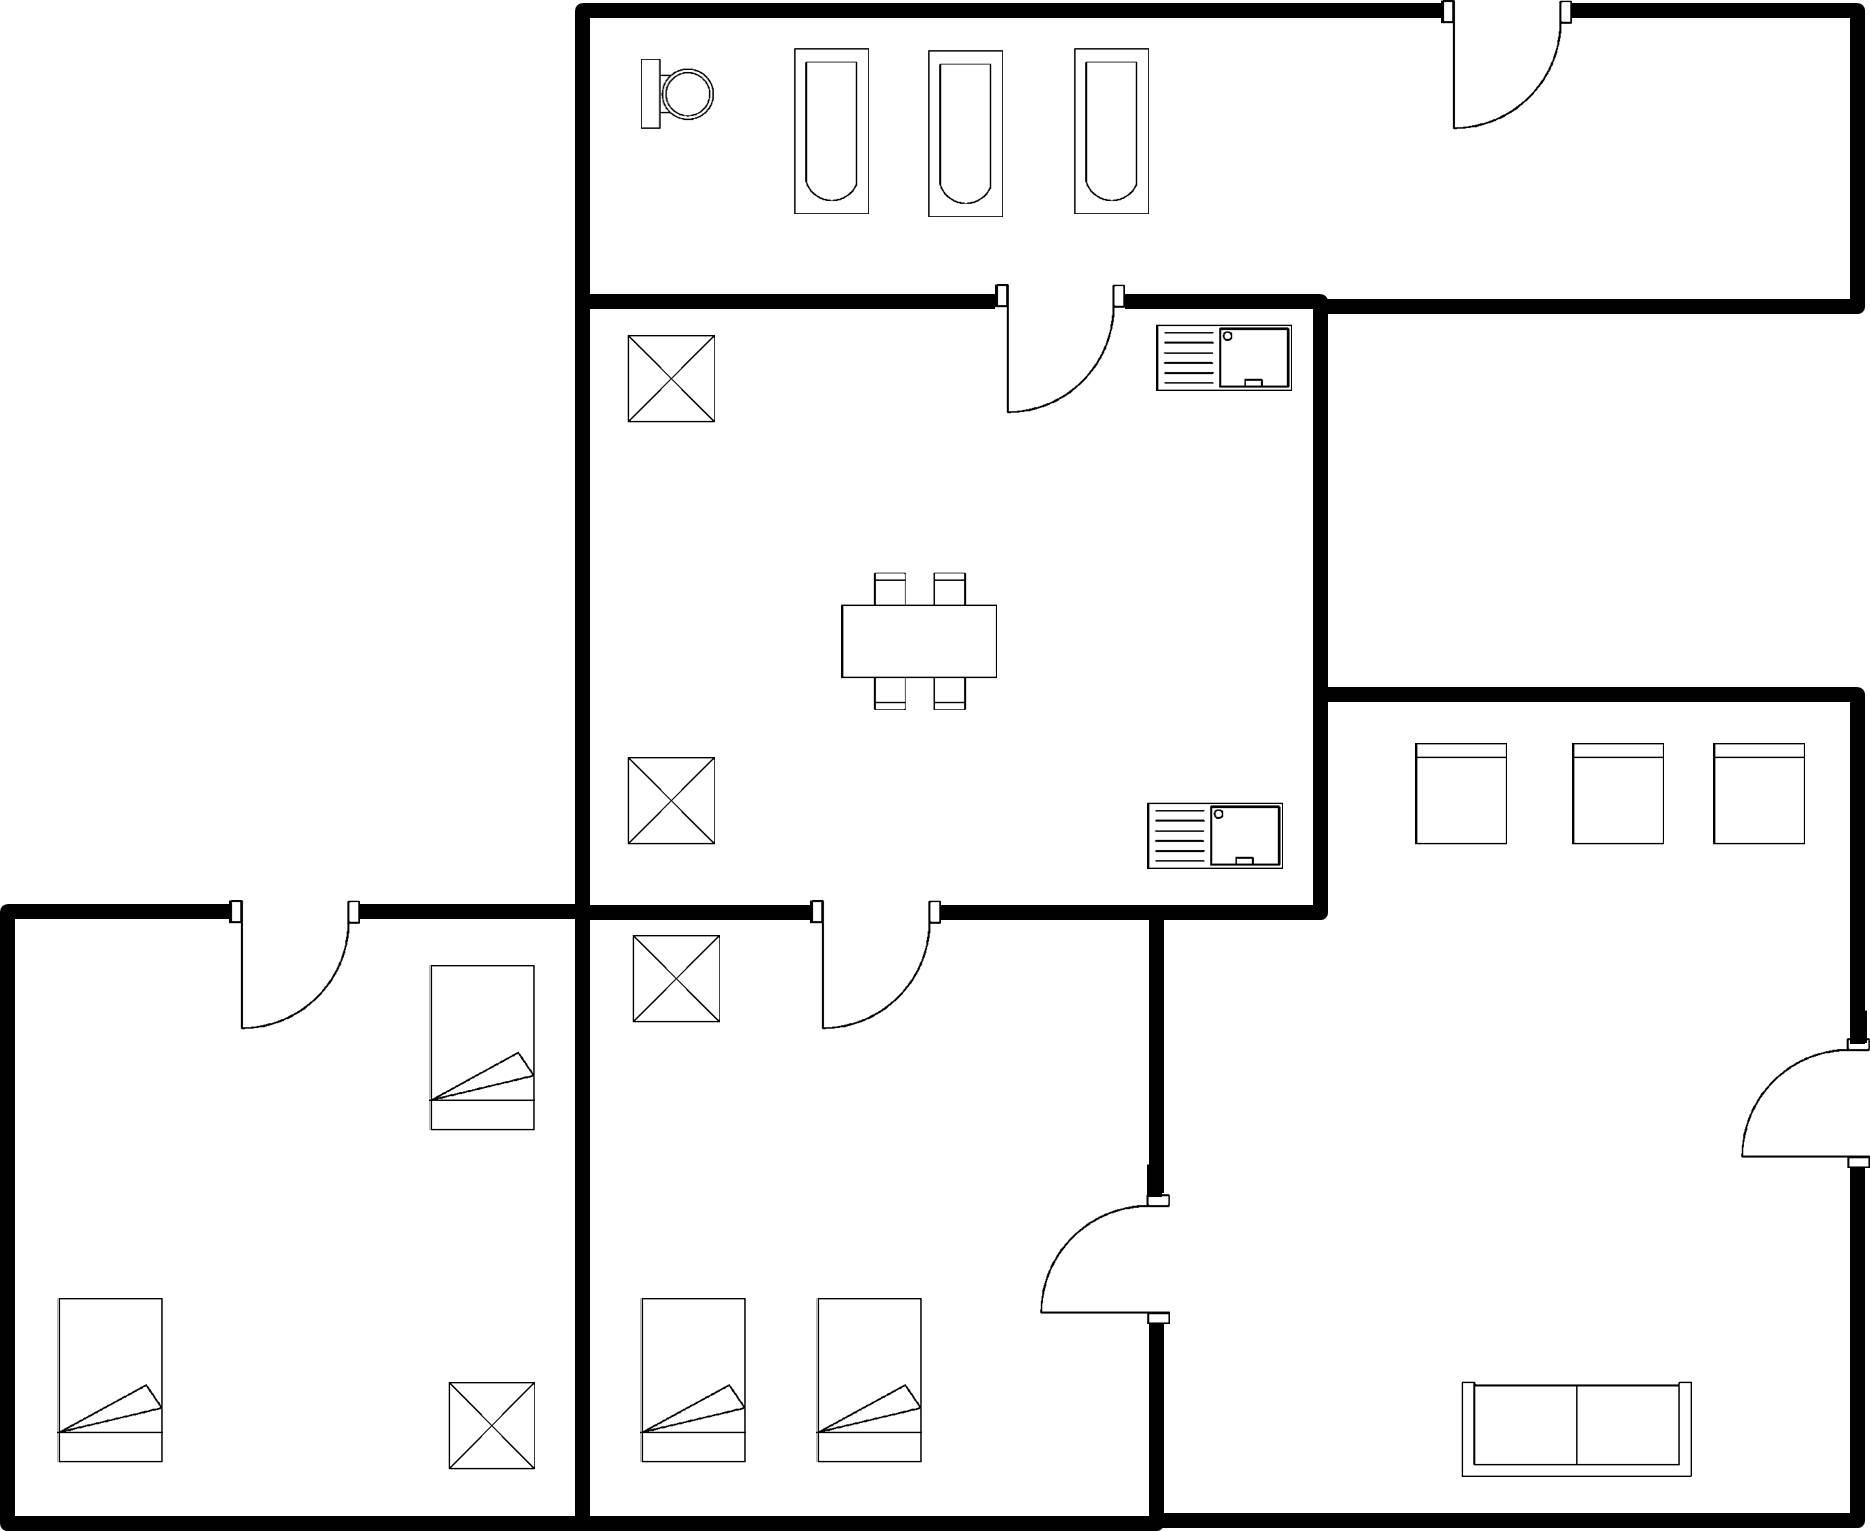bed: (415, 953, 545, 1143), (805, 1287, 933, 1474), (45, 1286, 172, 1472), (627, 1290, 756, 1474)
sink: (1146, 315, 1300, 404), (1135, 793, 1294, 877)
sofa: (1451, 1373, 1705, 1491)
toilet: (631, 42, 721, 143)
tub: (786, 36, 876, 225), (921, 40, 1010, 228), (1062, 39, 1152, 222)
